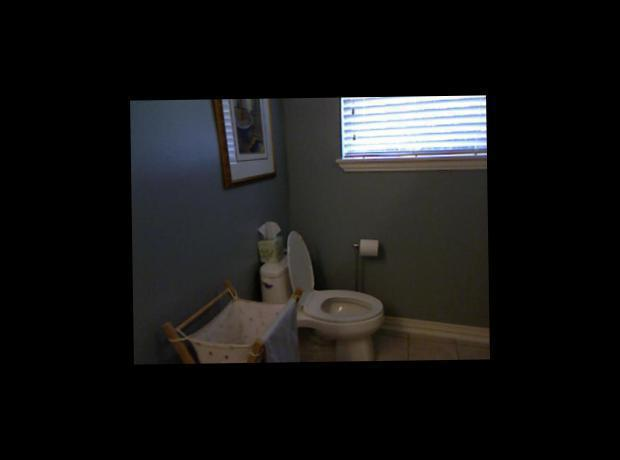Sanitario: (262, 230, 385, 361)
